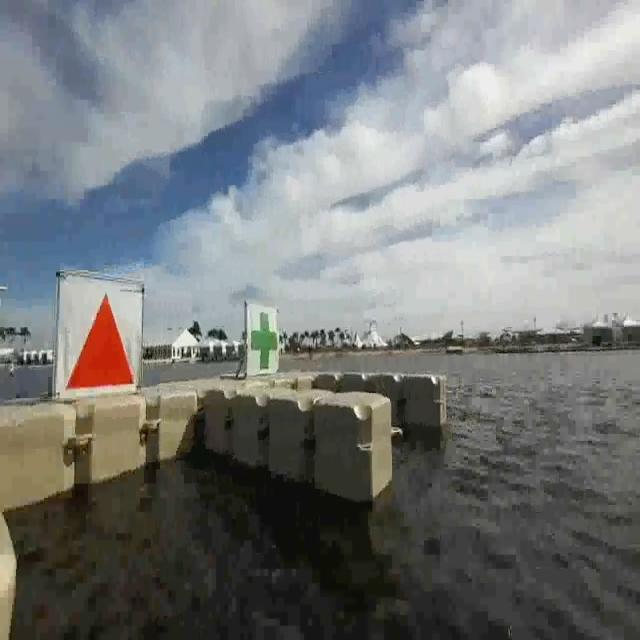blue-cross: (248, 306, 279, 376)
red-dot: (65, 282, 137, 394)
